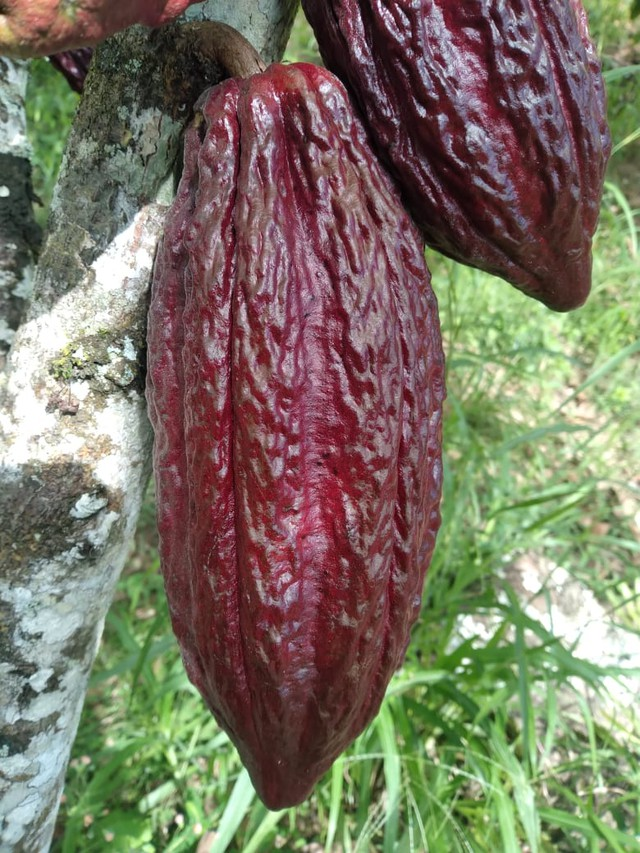Health: (132, 44, 459, 817)
